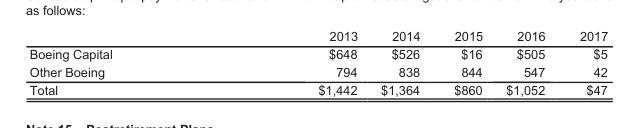table: (28, 28, 607, 96)
table column: (28, 28, 214, 96), (214, 28, 368, 96), (368, 28, 436, 96), (493, 28, 561, 96), (436, 28, 493, 96), (561, 28, 607, 96)
table column header: (28, 28, 607, 44)
table row: (28, 44, 607, 62), (28, 62, 607, 80), (28, 28, 607, 44), (28, 80, 607, 96)
